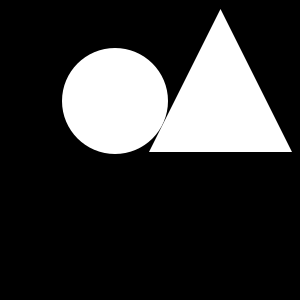rectangle: (62, 48, 168, 154)
triangle: (149, 9, 292, 152)
